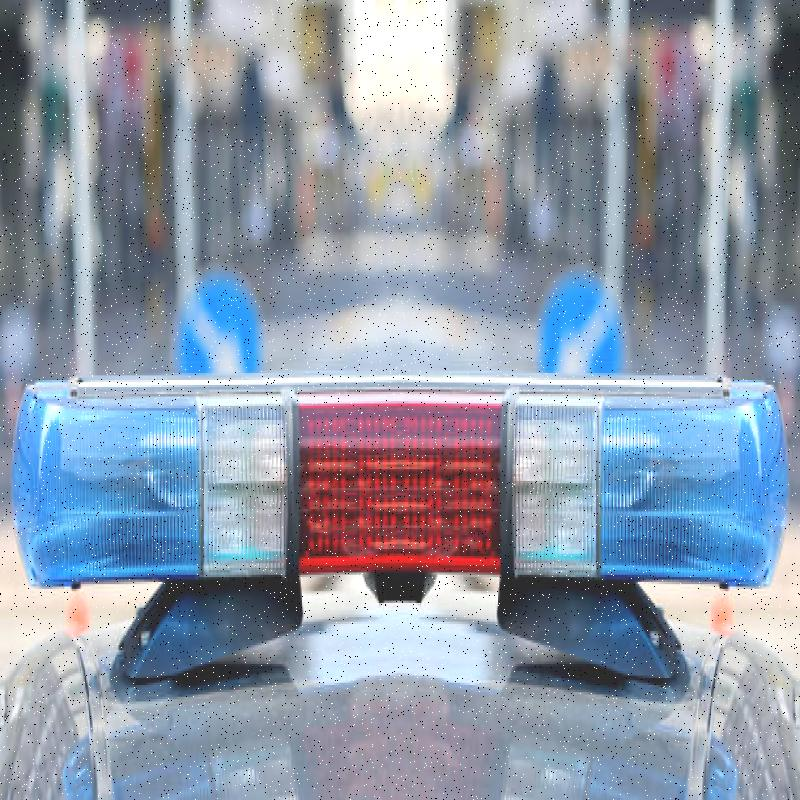AmbulanceSiren: (0, 321, 788, 594)
